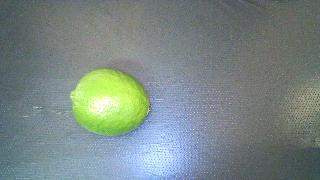EXPORTACION: (70, 69, 150, 136)
